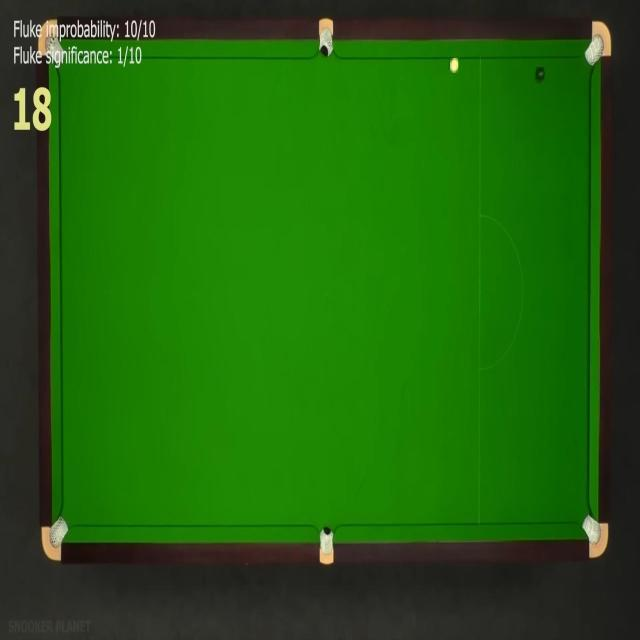Ball: (536, 68, 544, 84), (450, 58, 458, 73)
